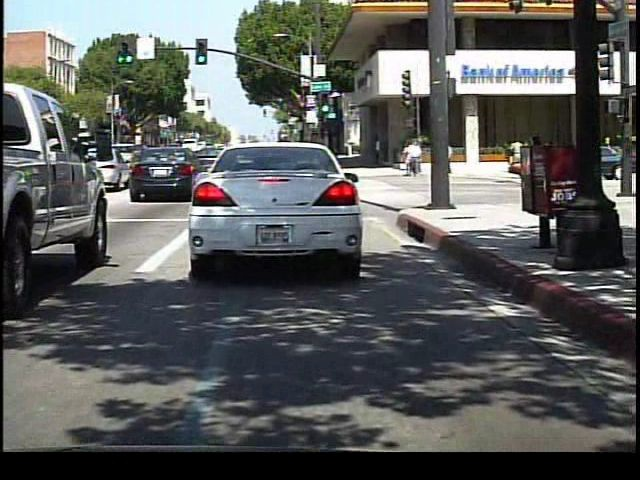person: (505, 135, 527, 176), (404, 136, 423, 179), (437, 136, 455, 173)
